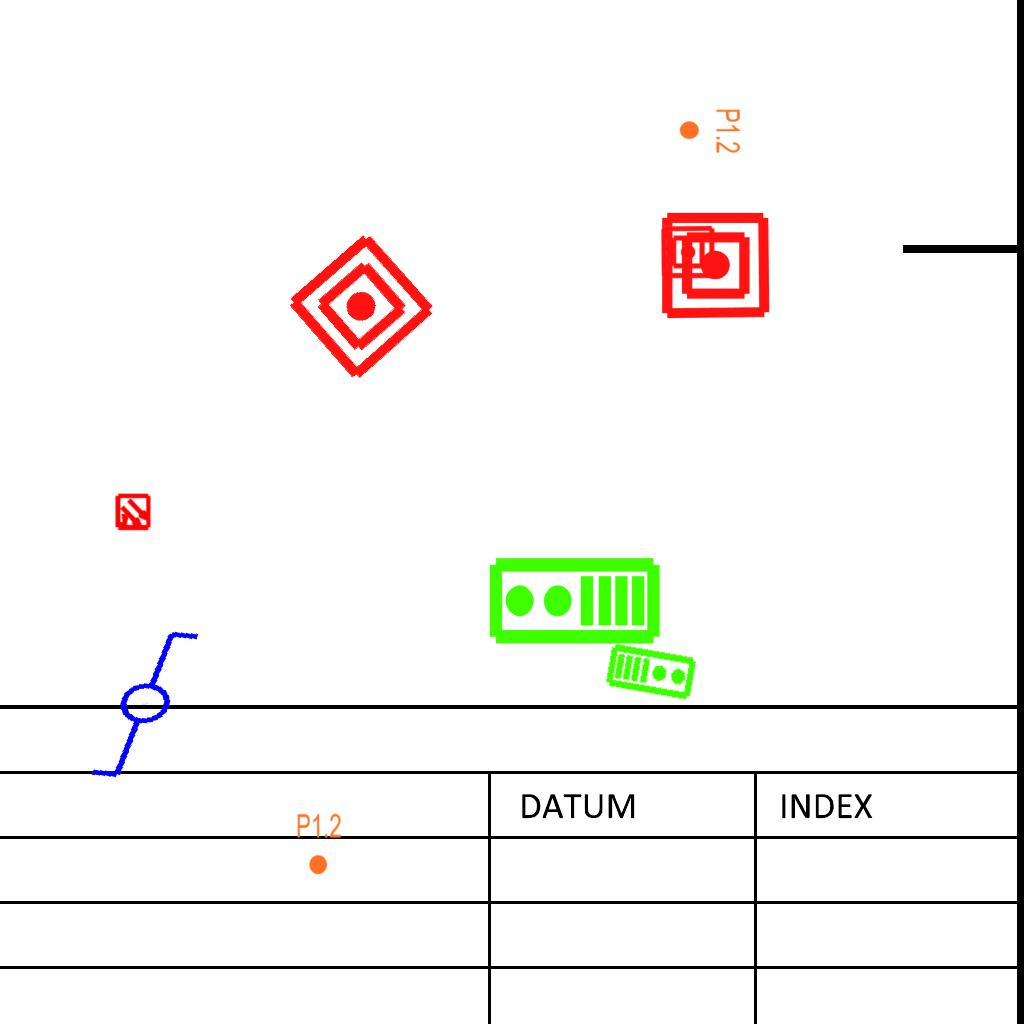Downlight_LED_Einbauleuchten_Flur: (296, 812, 342, 876), (678, 108, 742, 154)
Gegensprechanlage_mit_Video: (486, 555, 662, 650), (604, 640, 699, 702)
NAM-Nichtautomatischer_Melder: (281, 226, 442, 387), (659, 209, 772, 322), (660, 224, 716, 280)
OT_Multisensormelder_(Kombination_RMO_WMD): (105, 485, 161, 541)
Wechselschalter: (62, 618, 245, 790)
